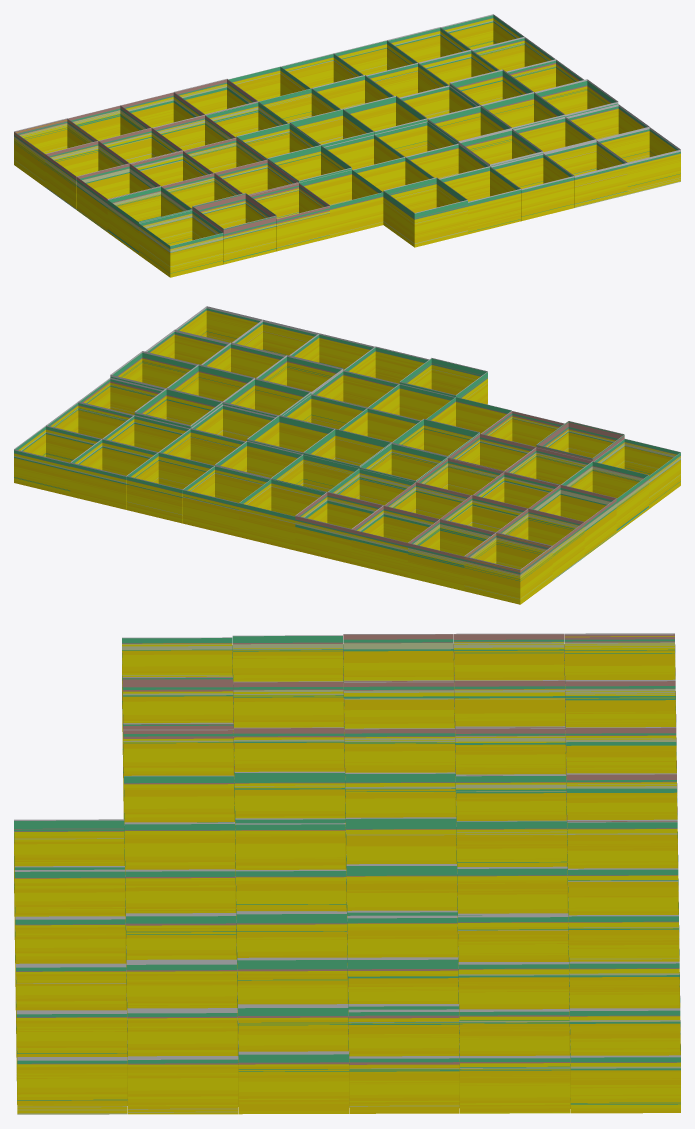
3 renders of one model, top to bottom at view 1: azimuth 30°, elevation 25°; view 2: azimuth 150°, elevation 25°; view 3: azimuth 270°, elevation 25°, orthographic. The views are drawn at different scales.
Parts seen in each view (by area): view 1: mesh; view 2: mesh; view 3: mesh.
Part boxes in pixels (x1,y1,x2,y2): mesh: (14, 14, 680, 277); mesh: (14, 306, 680, 604); mesh: (14, 633, 680, 1114).
Size of what is drawn, in the model's own units: 1475 by 105 by 987.
